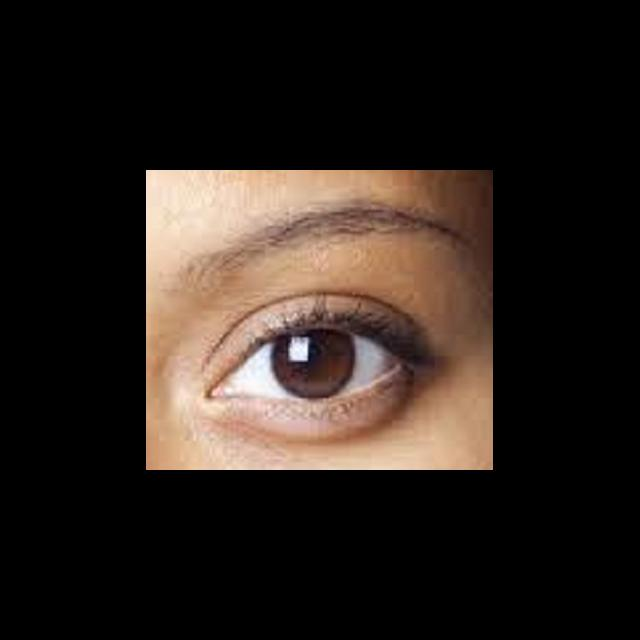eye: (221, 327, 399, 404)
iris: (271, 332, 354, 397)
